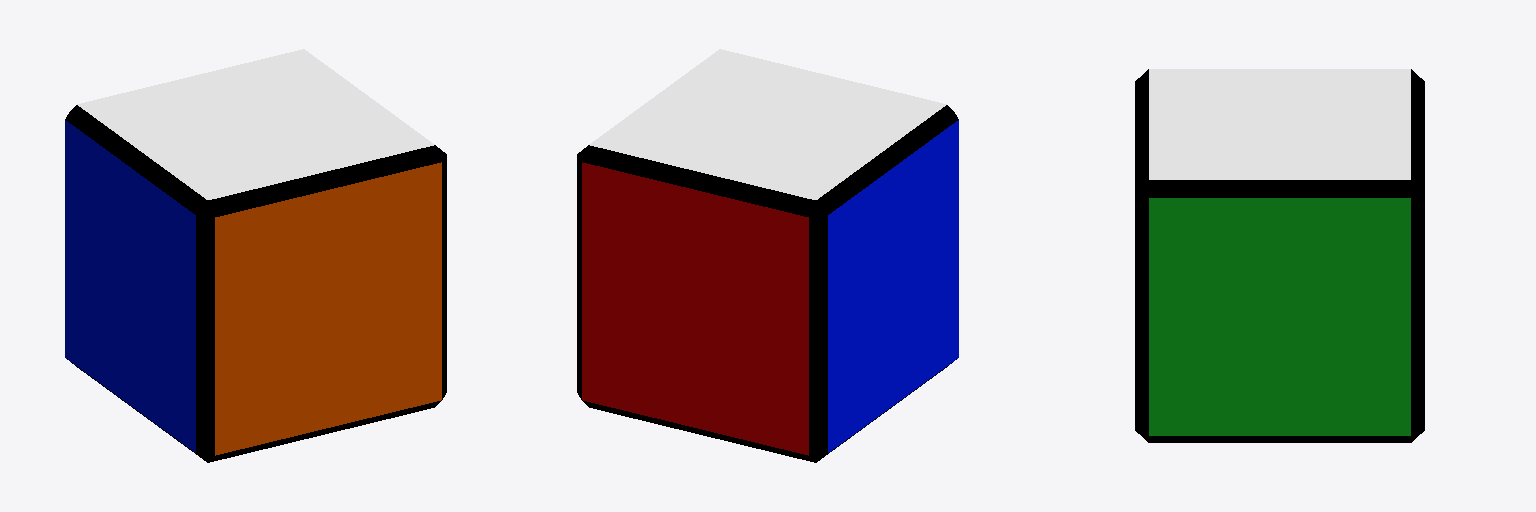
The model's file is cubie.obj.
The picture shows the model from 3 angles: view 1: azimuth 30°, elevation 25°; view 2: azimuth 150°, elevation 25°; view 3: azimuth 270°, elevation 25°; orthographic projection.
Parts seen in each view (by area): view 1: Cube; view 2: Cube; view 3: Cube.
Boxes of the visible parts, box(x1,y1,x2,y2) form: Cube: box(65, 49, 446, 462); Cube: box(577, 49, 958, 462); Cube: box(1135, 69, 1424, 442).
Bounding box in the file's own units: 2 × 2 × 2.